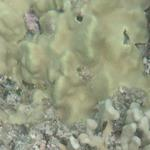dead: (1, 1, 142, 147)
